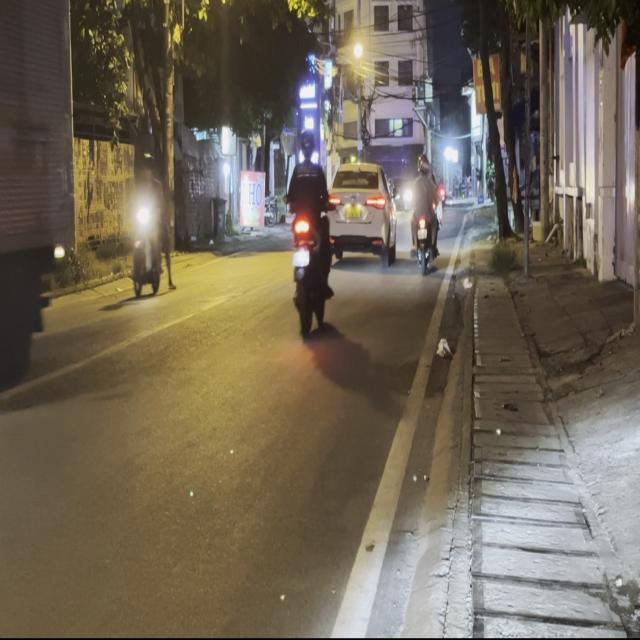helmet: (298, 128, 316, 158)
licenseplate: (285, 125, 335, 334), (127, 147, 176, 299)
nohelmet: (292, 248, 309, 265)
